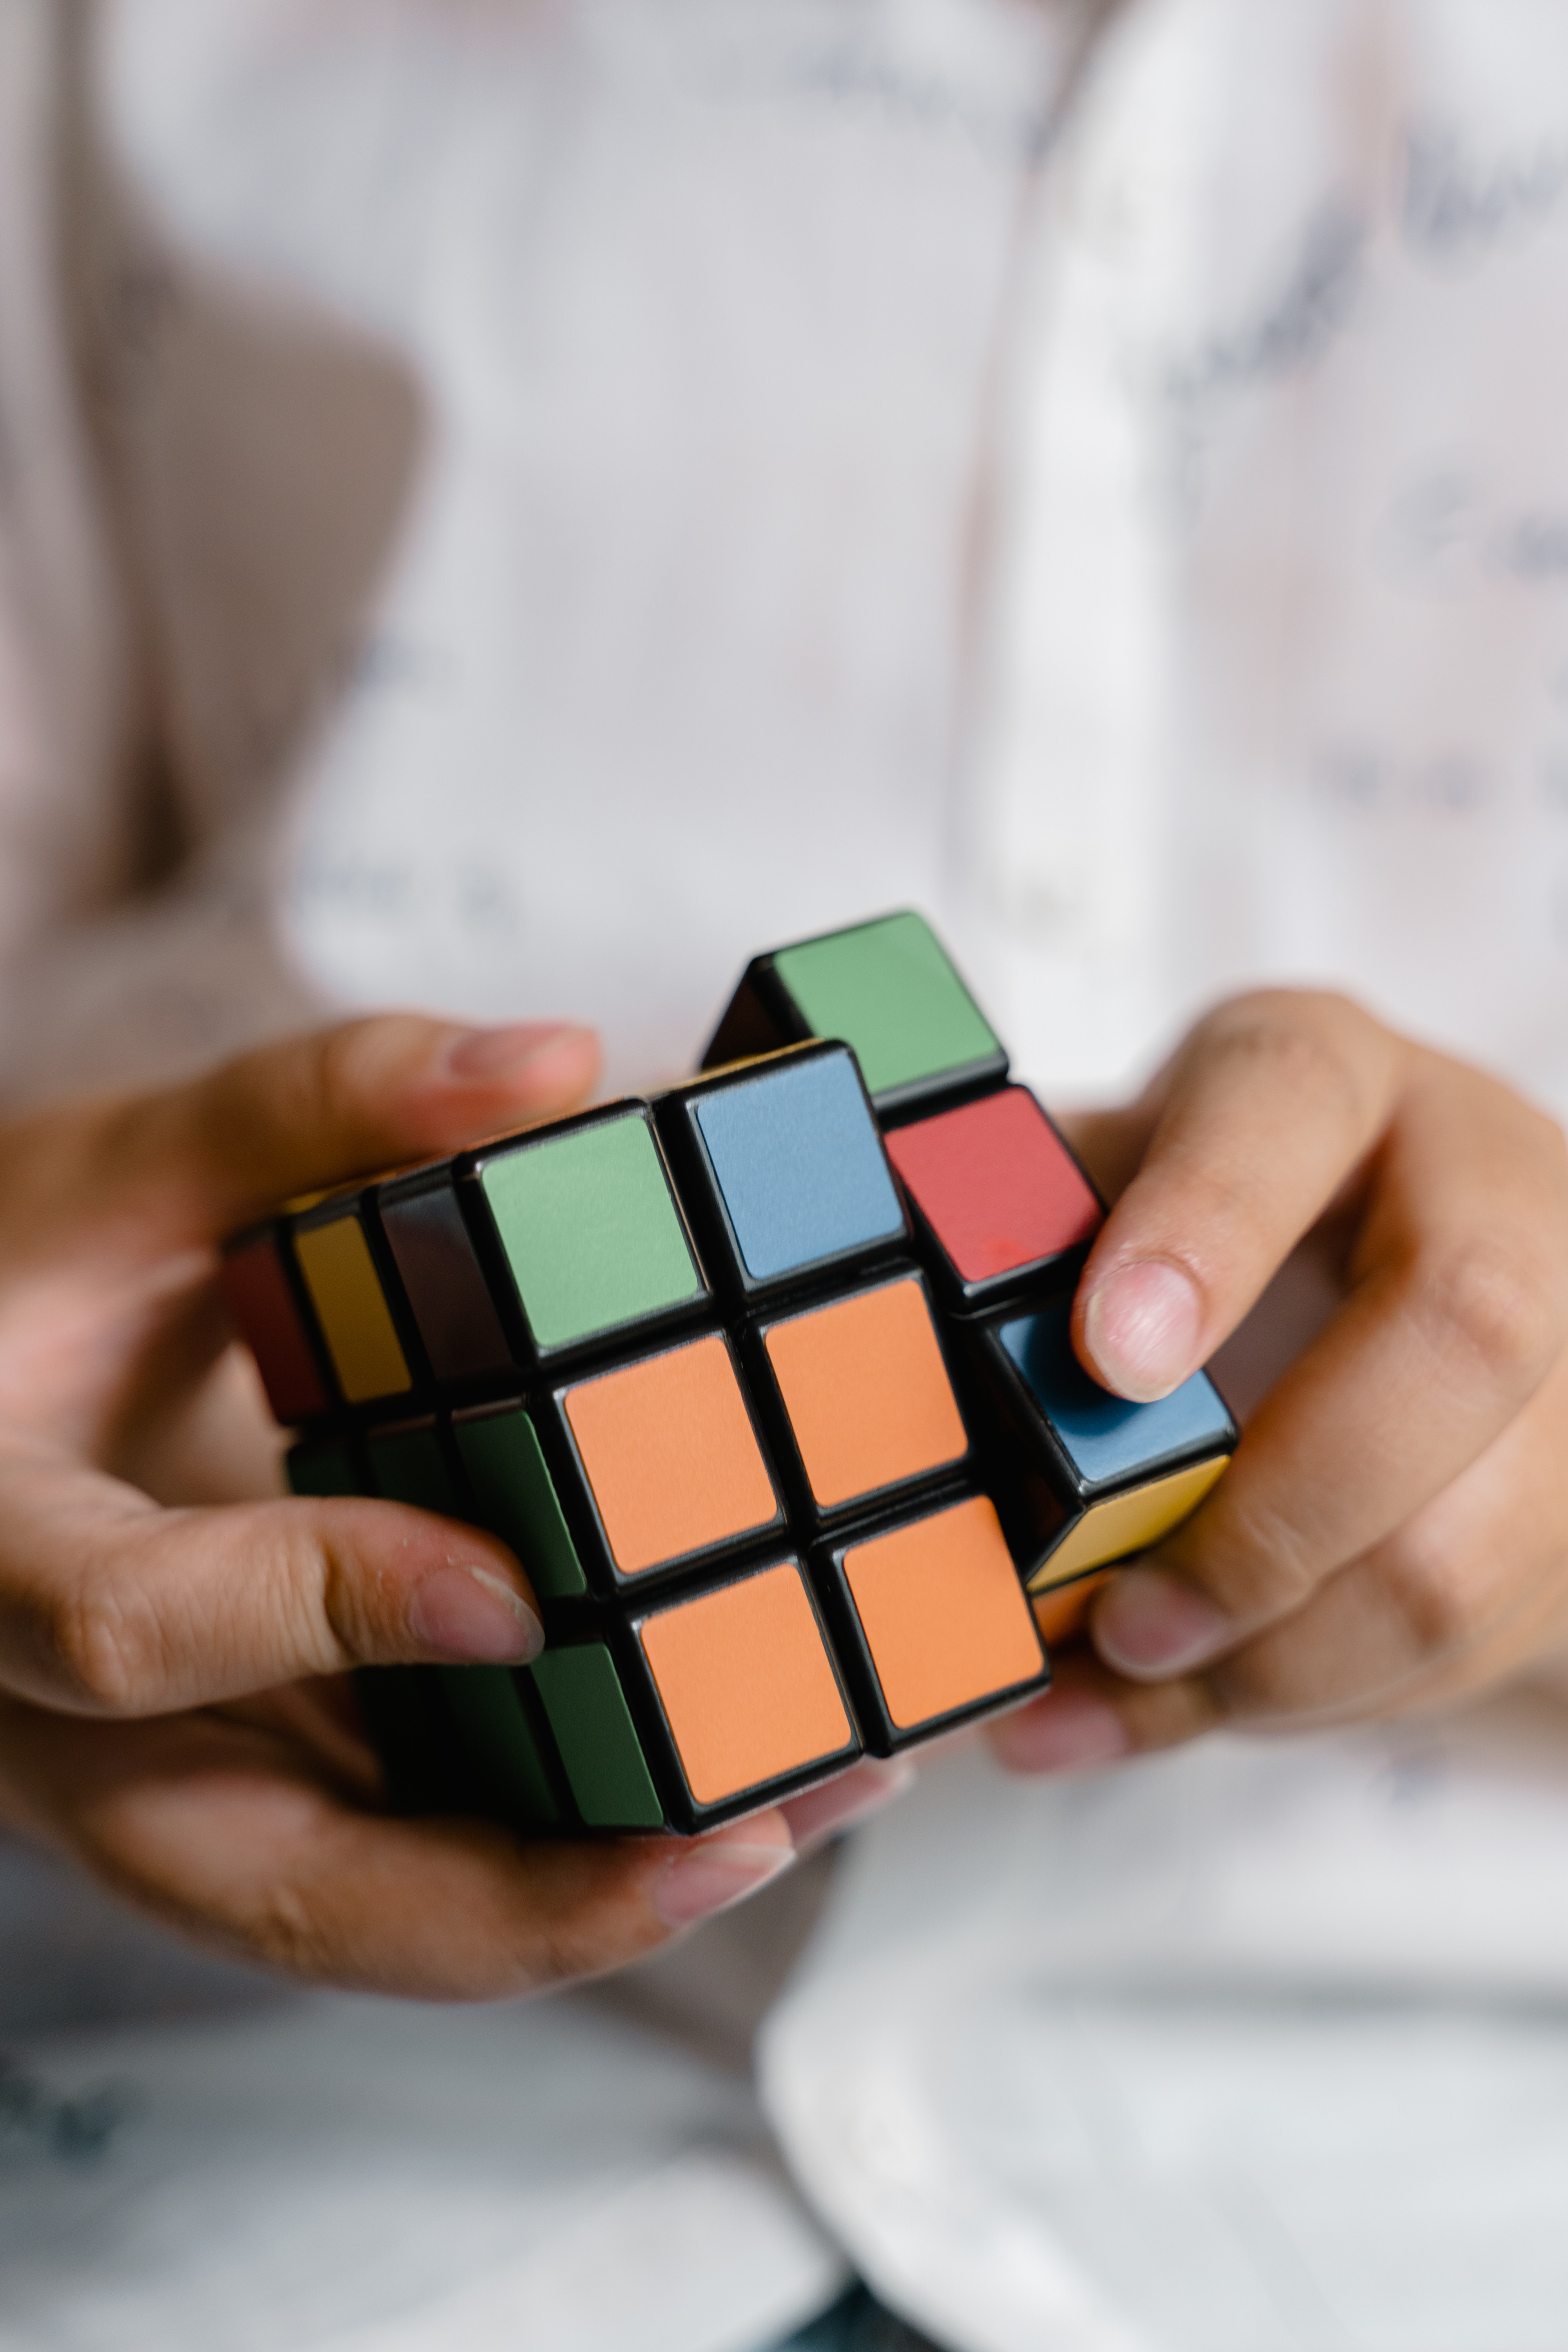cube: (213, 906, 1239, 1850)
